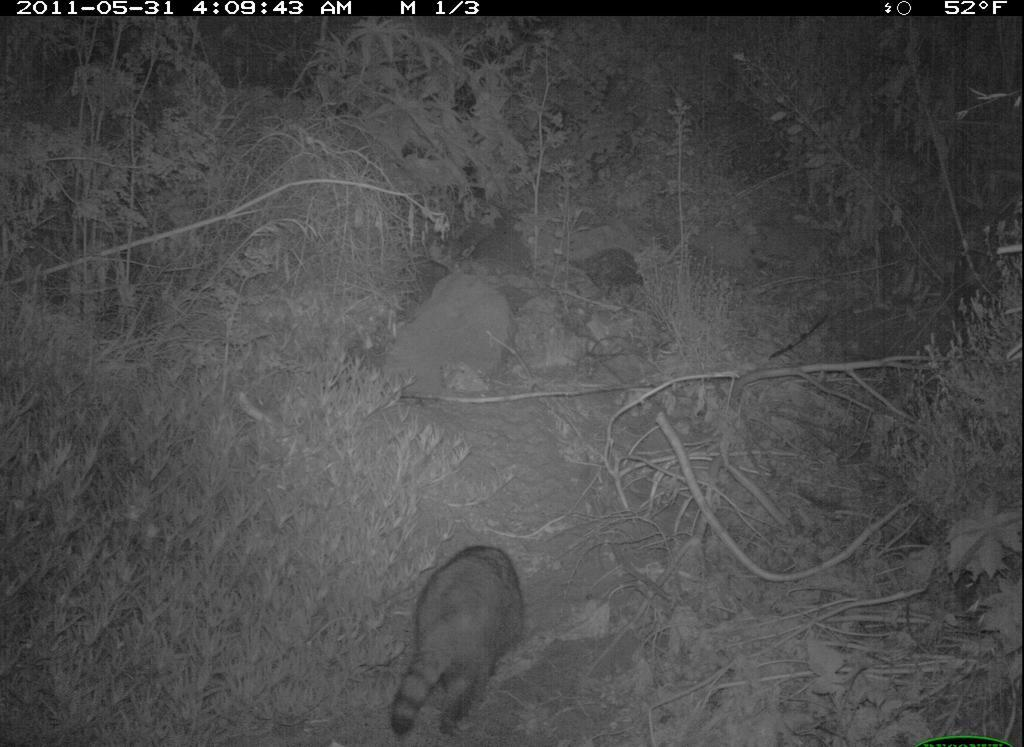raccoon: (386, 538, 559, 745)
